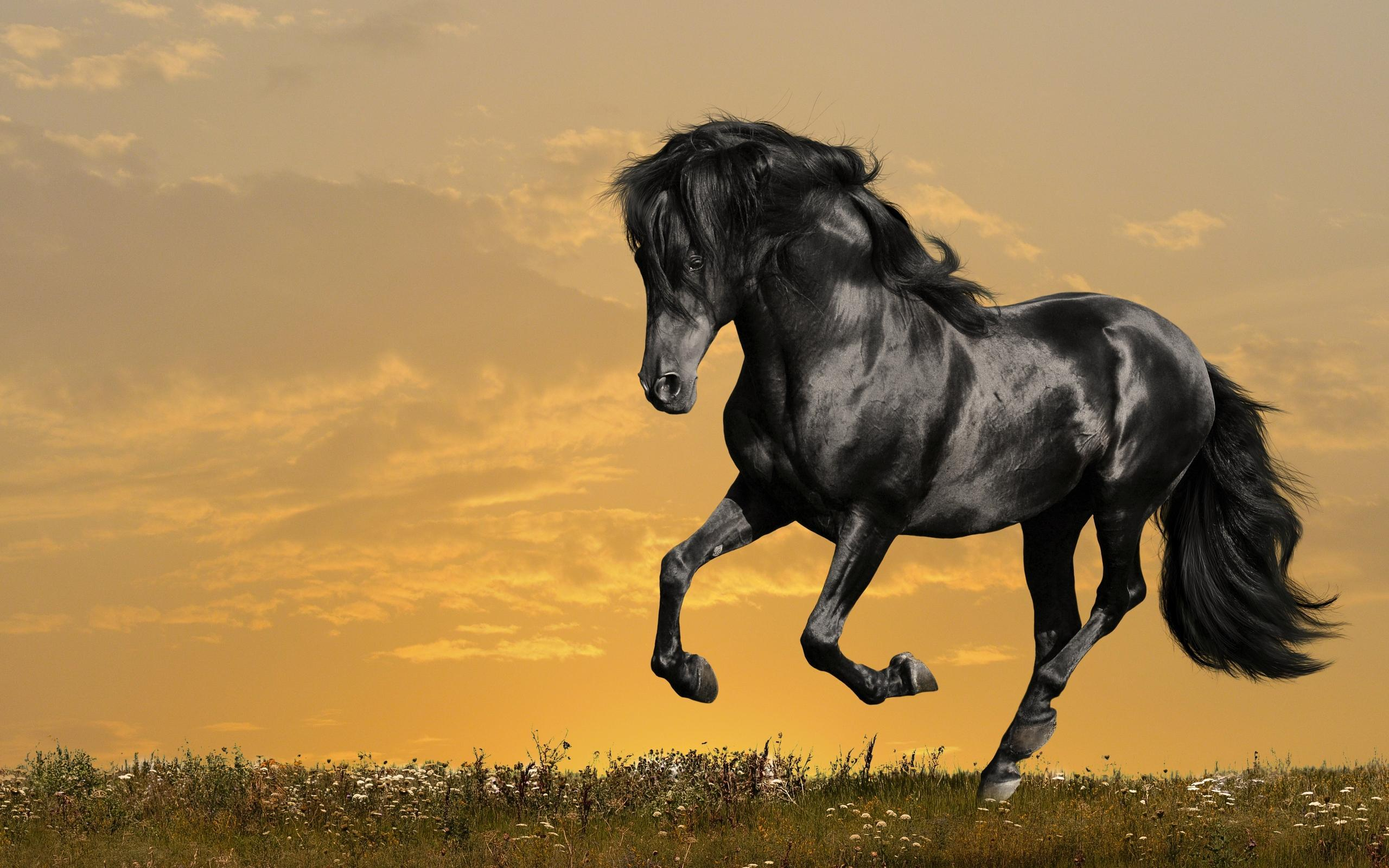horse: (593, 105, 1360, 810)
